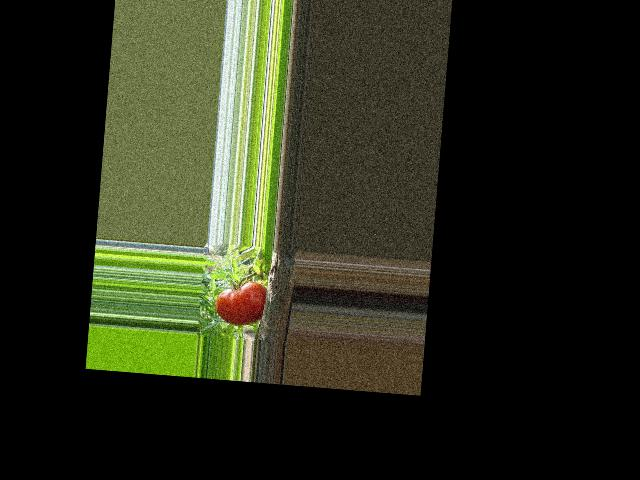tomato: (213, 278, 267, 326)
